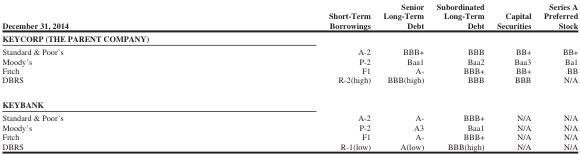table: (1, 0, 577, 150)
table column: (1, 0, 197, 150), (197, 0, 376, 150), (429, 0, 489, 150), (376, 0, 429, 150), (489, 0, 536, 150), (536, 0, 577, 150)
table column header: (1, 0, 577, 31)
table projected row header: (1, 91, 577, 110), (1, 31, 577, 44)
table row: (1, 0, 577, 31), (1, 91, 577, 110), (1, 74, 577, 91), (1, 31, 577, 44), (1, 44, 577, 56), (1, 110, 577, 122), (1, 131, 577, 141), (1, 56, 577, 65), (1, 65, 577, 74), (1, 122, 577, 131), (1, 141, 577, 150)
